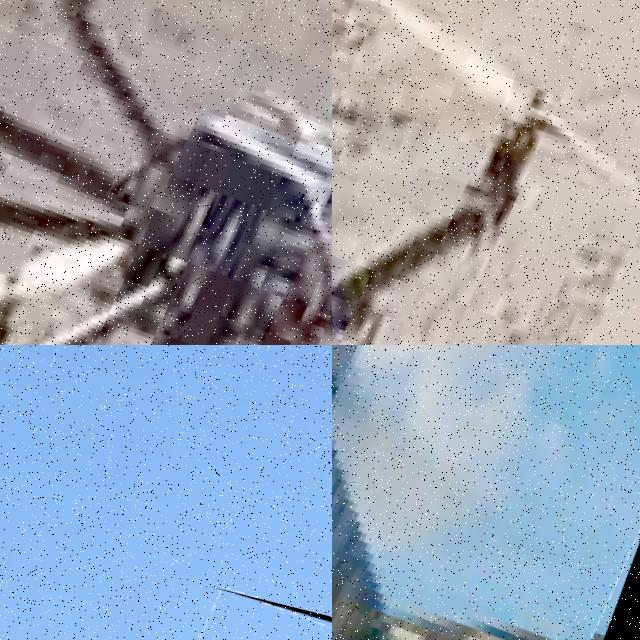0: (0, 0, 332, 345), (332, 0, 640, 345)
drone: (332, 345, 640, 640)
